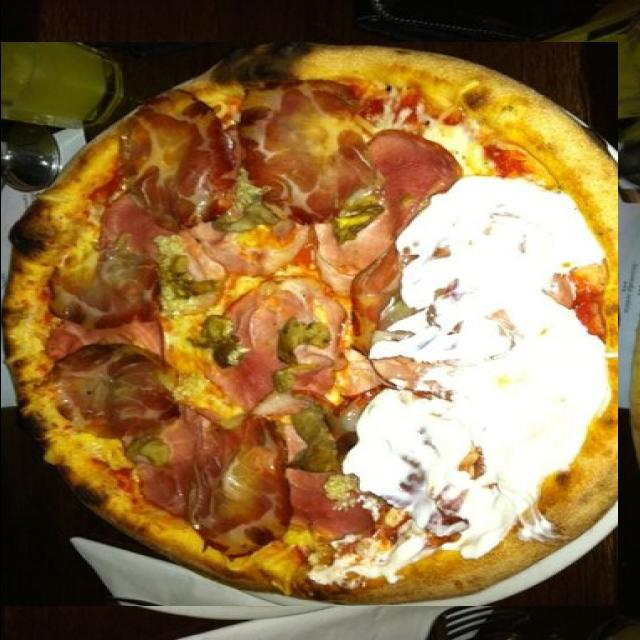pizza: (0, 43, 617, 606)
